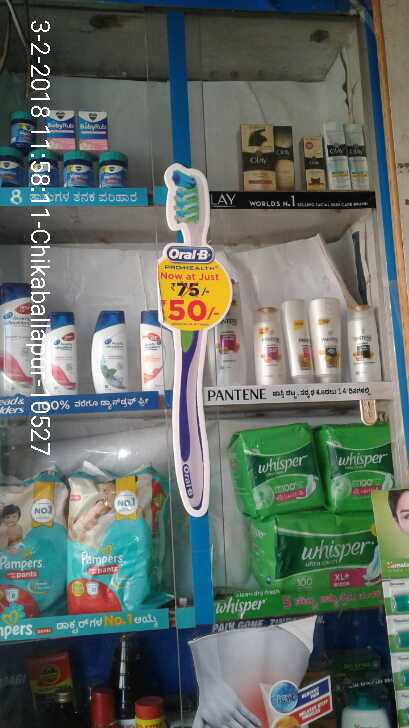beauty: (2, 281, 38, 400), (39, 309, 80, 394), (307, 294, 347, 380), (91, 307, 129, 394), (282, 298, 316, 383), (140, 310, 173, 394), (345, 307, 382, 381), (237, 122, 275, 193), (251, 306, 286, 381), (340, 124, 371, 190), (322, 122, 351, 191), (273, 122, 298, 192), (301, 136, 328, 190)
pharmacy: (66, 470, 167, 609), (247, 519, 383, 588), (2, 475, 66, 618), (227, 424, 324, 509), (319, 413, 394, 514), (78, 110, 109, 152), (62, 149, 94, 189), (98, 149, 126, 190), (48, 113, 77, 151), (1, 146, 24, 188), (11, 112, 37, 146), (32, 151, 56, 183)
